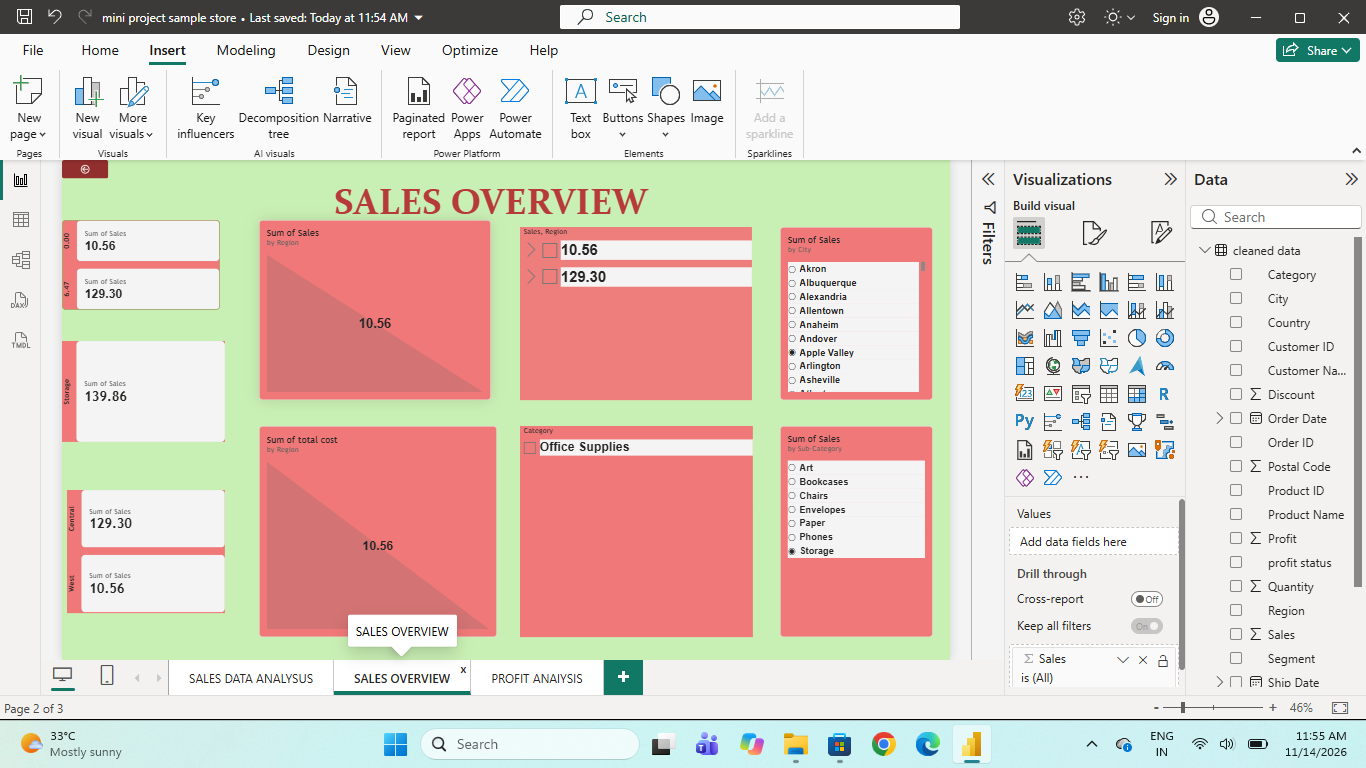

What the dashboard file says about the page in this screenshot:
{"tool":"powerbi","page":{"name":"SALES OVERVIEW","canvas":[1920,1080],"ordinal":1},"visuals":[{"type":"cardVisual","fields":{"Data":["Sum(cleaned data.Sales)"],"Rows":["cleaned data.Profit"]},"box":[0,129.6,341.3,194.4],"z":0},{"type":"cardVisual","fields":{"Data":["Sum(cleaned data.Sales)"],"Rows":["cleaned data.Sub-Category"]},"box":[0,391,352.1,218.2],"z":1000},{"type":"cardVisual","fields":{"Data":["Sum(cleaned data.Sales)"],"Rows":["cleaned data.Region"]},"box":[10.8,712.8,341.3,265.7],"z":2000},{"type":"kpi","fields":{"Indicator":["Sum(cleaned data.Sales)"],"TrendLine":["cleaned data.Region"]},"box":[425.5,129.6,501.1,388.8],"z":3000},{"type":"slicer","fields":{"Values":["cleaned data.Category"]},"box":[989.3,574.6,503.3,455.8],"z":4000},{"type":"actionButton","box":[0,0,100,40],"z":5000},{"type":"slicer","fields":{"Values":["cleaned data.Sales","cleaned data.Region"]},"box":[989.3,144.7,501.1,373.7],"z":6000},{"type":"listSlicer","fields":{"Values":["cleaned data.City"]},"box":[1550.9,144.7,330.5,373.7],"z":7000},{"type":"listSlicer","fields":{"Values":["cleaned data.Sub-Category"]},"box":[1550.9,574.6,330.5,455.8],"z":8000},{"type":"kpi","fields":{"Indicator":["Sum(cleaned data.total cost)"],"TrendLine":["cleaned data.Region"]},"box":[425.5,574.6,514.1,455.8],"z":9000},{"type":"textbox","box":[10.8,41,1831.7,103.7],"z":10000}]}

Visuals, with their boxes on the page's 1920x1080 design canvas (x1, y1, x2, y2). These are canvas units, not pixel positions in the 1366x768 screenshot, which may show the page scaled, cropped or inside an application window:
cardVisual - Sum(cleaned data.Sales) x cleaned data.Profit: (0,130,341,324)
cardVisual - Sum(cleaned data.Sales) x cleaned data.Sub-Category: (0,391,352,609)
cardVisual - Sum(cleaned data.Sales) x cleaned data.Region: (11,713,352,978)
kpi - Sum(cleaned data.Sales) x cleaned data.Region: (426,130,927,518)
slicer - cleaned data.Category: (989,575,1493,1030)
actionButton: (0,0,100,40)
slicer - cleaned data.Sales x cleaned data.Region: (989,145,1490,518)
listSlicer - cleaned data.City: (1551,145,1881,518)
listSlicer - cleaned data.Sub-Category: (1551,575,1881,1030)
kpi - Sum(cleaned data.total cost) x cleaned data.Region: (426,575,940,1030)
textbox: (11,41,1842,145)
